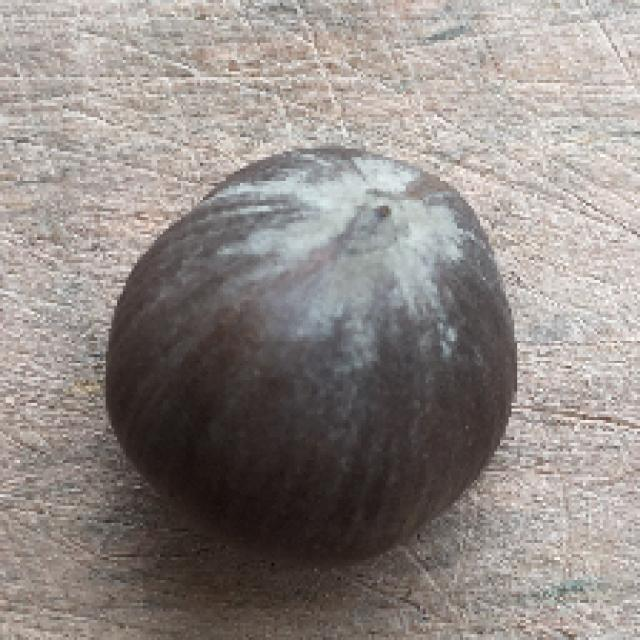damagedHazelnut: (99, 133, 521, 560)
